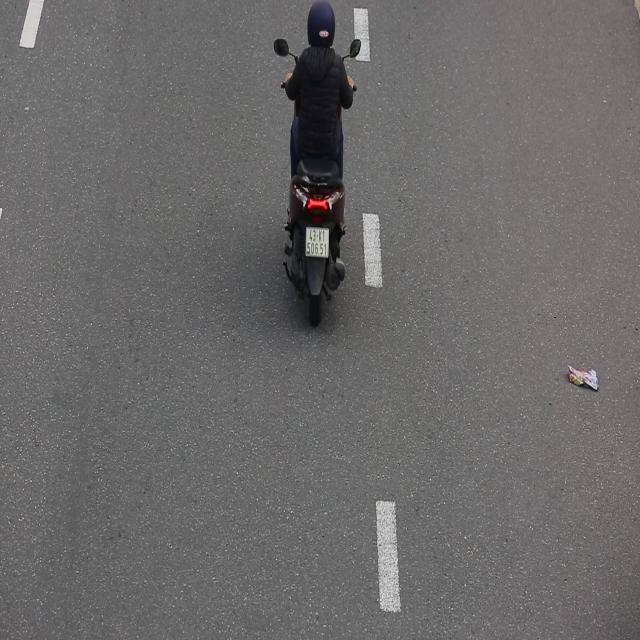motorbike: (259, 3, 373, 325)
